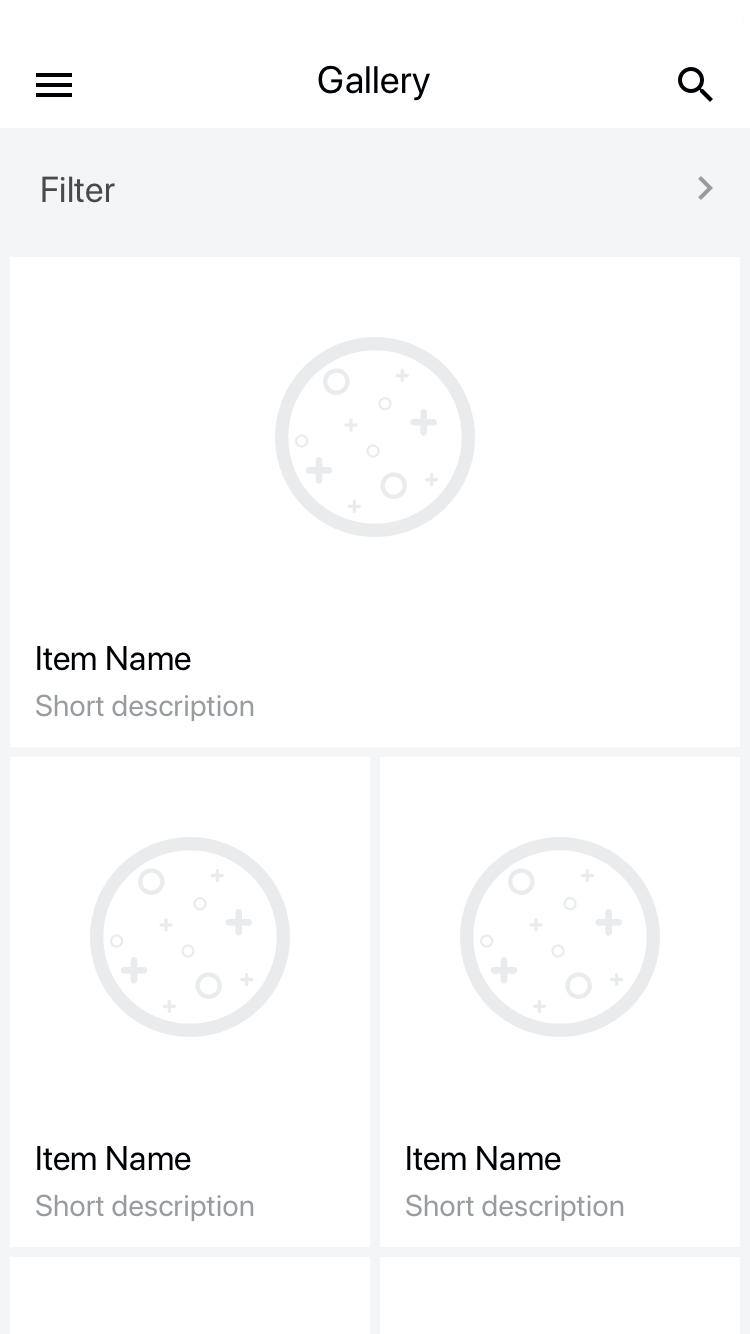Card: (8, 256, 743, 750), (9, 755, 373, 1249), (378, 756, 742, 1249)
Icon: (678, 68, 714, 104), (36, 72, 74, 98), (697, 176, 714, 201)
Image: (90, 835, 292, 1038), (459, 836, 661, 1036), (275, 337, 477, 534)
Text: (36, 693, 255, 723), (36, 1192, 254, 1222), (406, 1193, 624, 1221), (36, 644, 191, 673), (318, 65, 432, 102), (406, 1144, 562, 1171), (36, 1145, 193, 1171), (42, 175, 117, 204)
